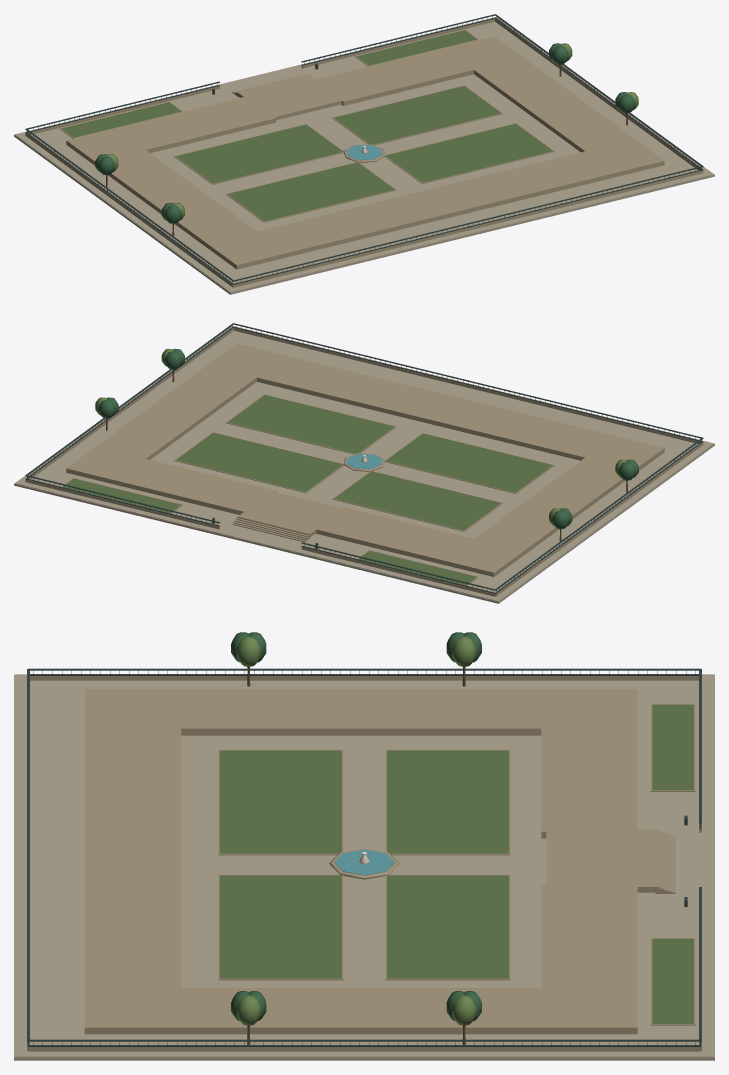
File: KOL_T1_INDIAN_MUSEUM__00_FoundationGrounds.fbx
3 renders of one model, top to bottom at view 1: azimuth 30°, elevation 25°; view 2: azimuth 150°, elevation 25°; view 3: azimuth 270°, elevation 25°, orthographic. The views are drawn at different scales.
Visible parts, largest first — view 1: KOL_T1_INDIAN_MUSEUM__00_FoundationGrounds__KOL_T1_B4_Museum, KOL_T1_INDIAN_MUSEUM__00_FoundationGrounds__KOL_T1_B4_Paving, KOL_T1_INDIAN_MUSEUM__00_FoundationGrounds__KOL_T1_B4_Lawn_0, KOL_T1_INDIAN_MUSEUM__00_FoundationGrounds__KOL_T1_B4_Iron_0, KOL_T1_INDIAN_MUSEUM__00_FoundationGrounds__KOL_T1_B4_Leaf_0; view 2: KOL_T1_INDIAN_MUSEUM__00_FoundationGrounds__KOL_T1_B4_Museum, KOL_T1_INDIAN_MUSEUM__00_FoundationGrounds__KOL_T1_B4_Paving, KOL_T1_INDIAN_MUSEUM__00_FoundationGrounds__KOL_T1_B4_Lawn_0, KOL_T1_INDIAN_MUSEUM__00_FoundationGrounds__KOL_T1_B4_Iron_0, KOL_T1_INDIAN_MUSEUM__00_FoundationGrounds__KOL_T1_B4_Leaf_0; view 3: KOL_T1_INDIAN_MUSEUM__00_FoundationGrounds__KOL_T1_B4_Museum, KOL_T1_INDIAN_MUSEUM__00_FoundationGrounds__KOL_T1_B4_Paving, KOL_T1_INDIAN_MUSEUM__00_FoundationGrounds__KOL_T1_B4_Lawn_0, KOL_T1_INDIAN_MUSEUM__00_FoundationGrounds__KOL_T1_B4_Iron_0, KOL_T1_INDIAN_MUSEUM__00_FoundationGrounds__KOL_T1_B4_LeafLi, KOL_T1_INDIAN_MUSEUM__00_FoundationGrounds__KOL_T1_B4_Leaf_0, KOL_T1_INDIAN_MUSEUM__00_FoundationGrounds__KOL_T1_B4_Water_.
Part boxes in pixels (x1,y1,x2,y2): KOL_T1_INDIAN_MUSEUM__00_FoundationGrounds__KOL_T1_B4_Museum: (25,19,703,287); KOL_T1_INDIAN_MUSEUM__00_FoundationGrounds__KOL_T1_B4_Paving: (14,17,714,294); KOL_T1_INDIAN_MUSEUM__00_FoundationGrounds__KOL_T1_B4_Lawn_0: (61,30,552,221); KOL_T1_INDIAN_MUSEUM__00_FoundationGrounds__KOL_T1_B4_Iron_0: (25,14,703,284); KOL_T1_INDIAN_MUSEUM__00_FoundationGrounds__KOL_T1_B4_Leaf_0: (95,43,635,223); KOL_T1_INDIAN_MUSEUM__00_FoundationGrounds__KOL_T1_B4_Museum: (25,328,703,596); KOL_T1_INDIAN_MUSEUM__00_FoundationGrounds__KOL_T1_B4_Paving: (14,326,714,603); KOL_T1_INDIAN_MUSEUM__00_FoundationGrounds__KOL_T1_B4_Lawn_0: (62,395,552,585); KOL_T1_INDIAN_MUSEUM__00_FoundationGrounds__KOL_T1_B4_Iron_0: (25,323,703,593); KOL_T1_INDIAN_MUSEUM__00_FoundationGrounds__KOL_T1_B4_Leaf_0: (98,349,638,529); KOL_T1_INDIAN_MUSEUM__00_FoundationGrounds__KOL_T1_B4_Museum: (27,676,701,1051); KOL_T1_INDIAN_MUSEUM__00_FoundationGrounds__KOL_T1_B4_Paving: (14,674,714,1060); KOL_T1_INDIAN_MUSEUM__00_FoundationGrounds__KOL_T1_B4_Lawn_0: (219,705,693,1023); KOL_T1_INDIAN_MUSEUM__00_FoundationGrounds__KOL_T1_B4_Iron_0: (27,668,701,1046); KOL_T1_INDIAN_MUSEUM__00_FoundationGrounds__KOL_T1_B4_LeafLi: (236,636,476,1025); KOL_T1_INDIAN_MUSEUM__00_FoundationGrounds__KOL_T1_B4_Leaf_0: (231,632,481,1021); KOL_T1_INDIAN_MUSEUM__00_FoundationGrounds__KOL_T1_B4_Water_: (334,849,394,875).
Bounding box in the file's own units: 282 × 19 × 218.
